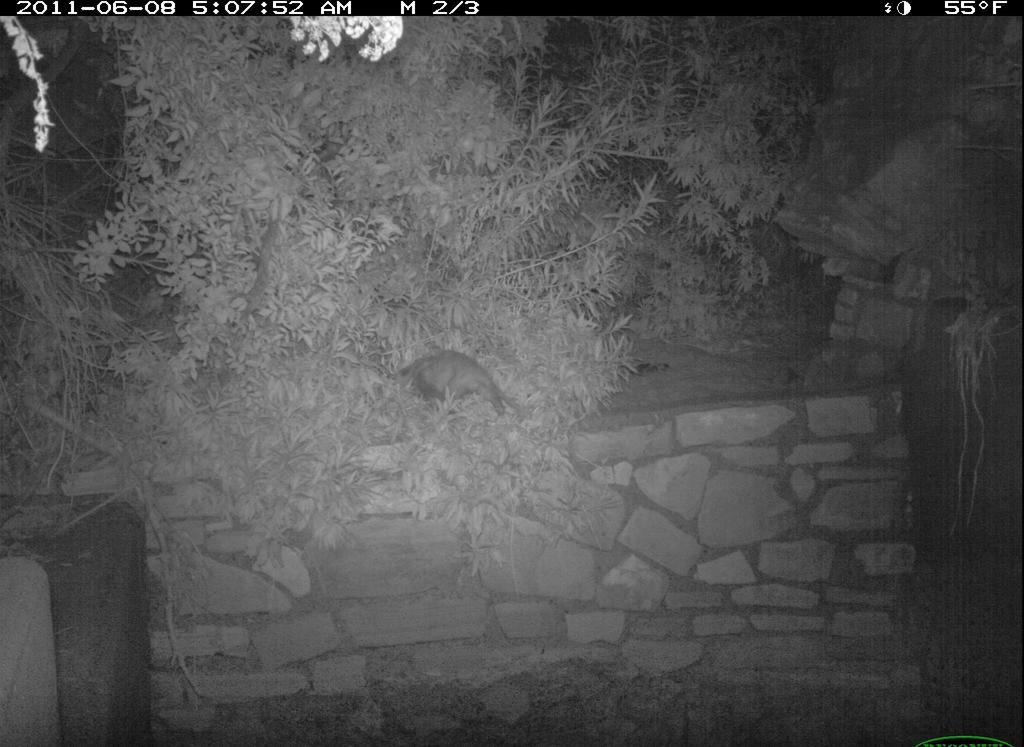opossum: (386, 349, 530, 437)
